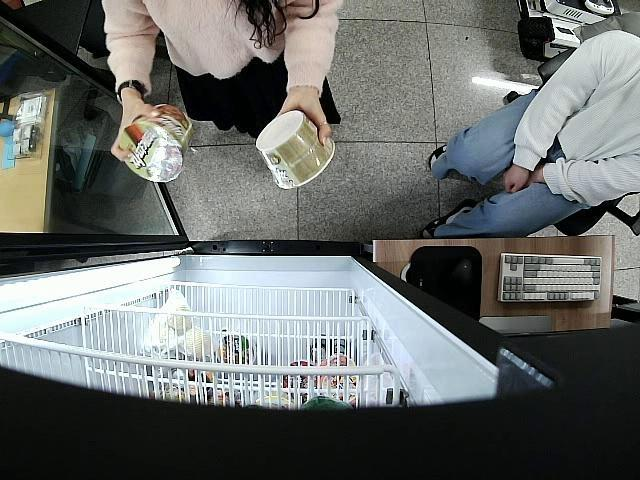03_chapagetti_L: (257, 111, 334, 190), (120, 104, 193, 182)
